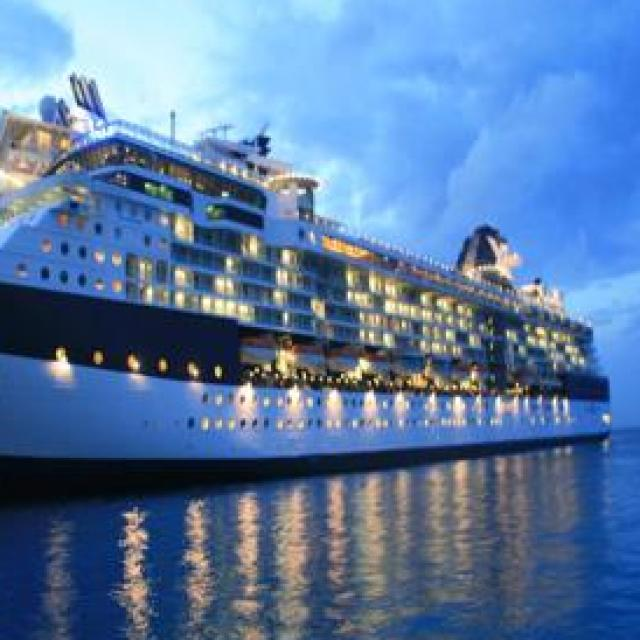passenger ship: (0, 70, 617, 484)
